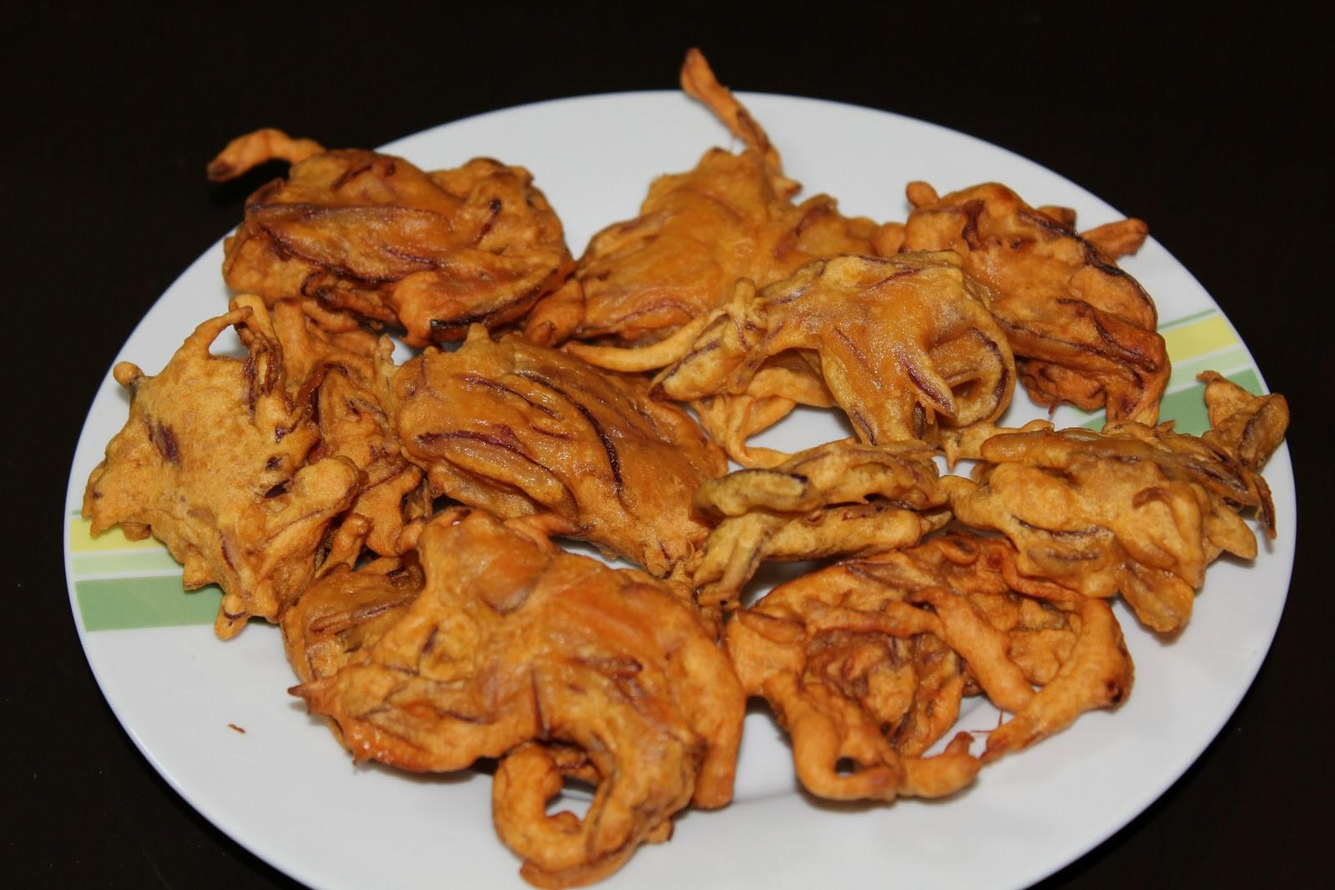OnionPakoda: (82, 46, 1286, 888)
